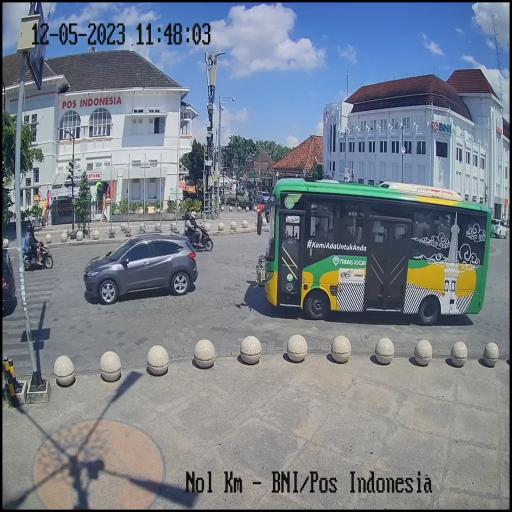mobil: (257, 177, 494, 325), (83, 232, 198, 304)
motor: (21, 235, 54, 272), (182, 219, 215, 255)
